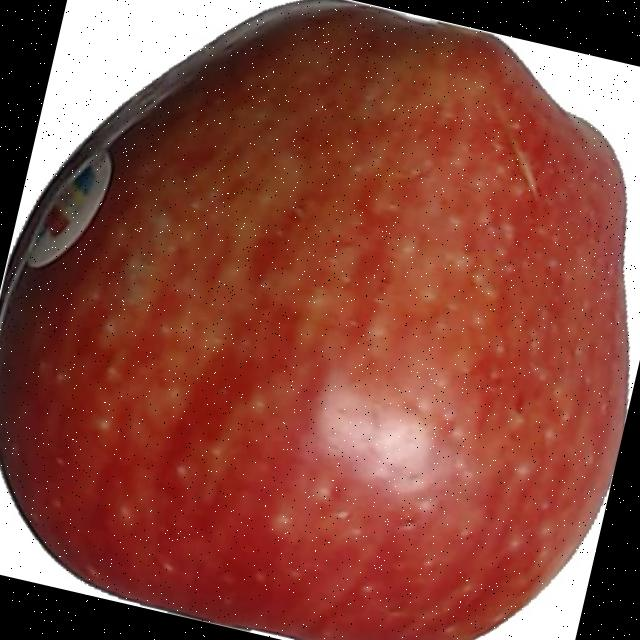apple: (0, 0, 629, 640)
